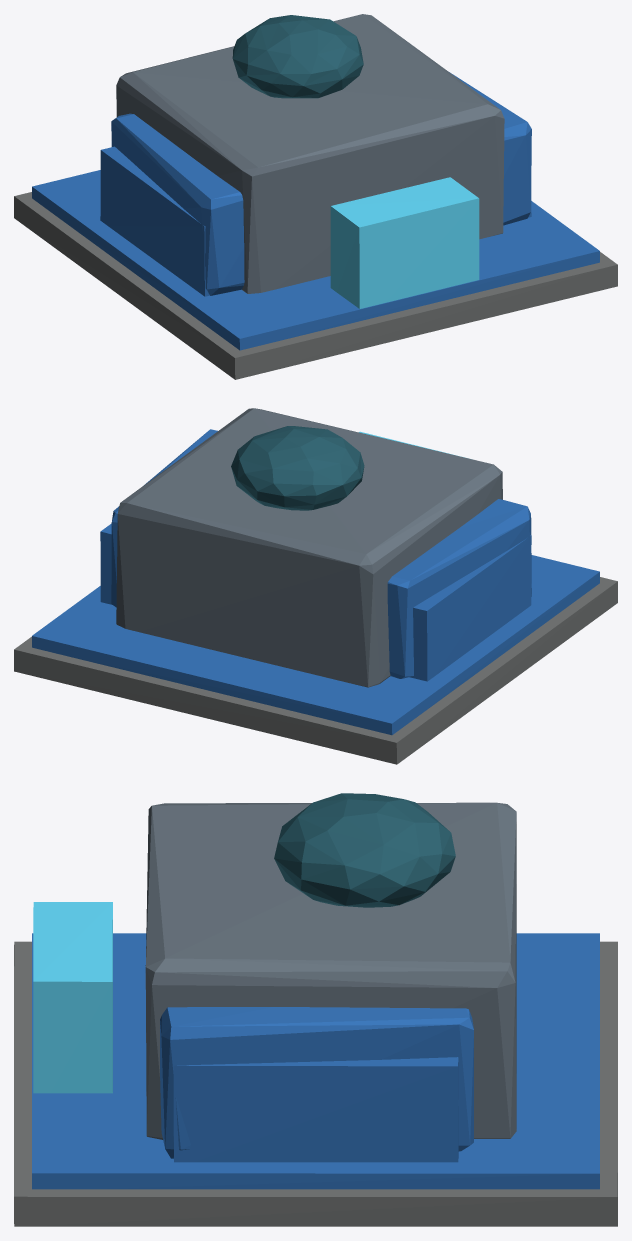
Rendered from SM_Alliance_AL_Barracks_LOD2.fbx.
3 renders of one model, top to bottom at view 1: azimuth 30°, elevation 25°; view 2: azimuth 150°, elevation 25°; view 3: azimuth 270°, elevation 25°, orthographic. The views are drawn at different scales.
Visible parts, largest first — view 1: LOD02_SM_Alliance_AL_Barracks; view 2: LOD02_SM_Alliance_AL_Barracks; view 3: LOD02_SM_Alliance_AL_Barracks.
Boxes of the visible parts, x1,y1,x2,y2 form: LOD02_SM_Alliance_AL_Barracks: (14, 14, 617, 379); LOD02_SM_Alliance_AL_Barracks: (14, 408, 617, 764); LOD02_SM_Alliance_AL_Barracks: (14, 793, 617, 1226).
Bounding box in the file's own units: 597 × 597 × 318.
